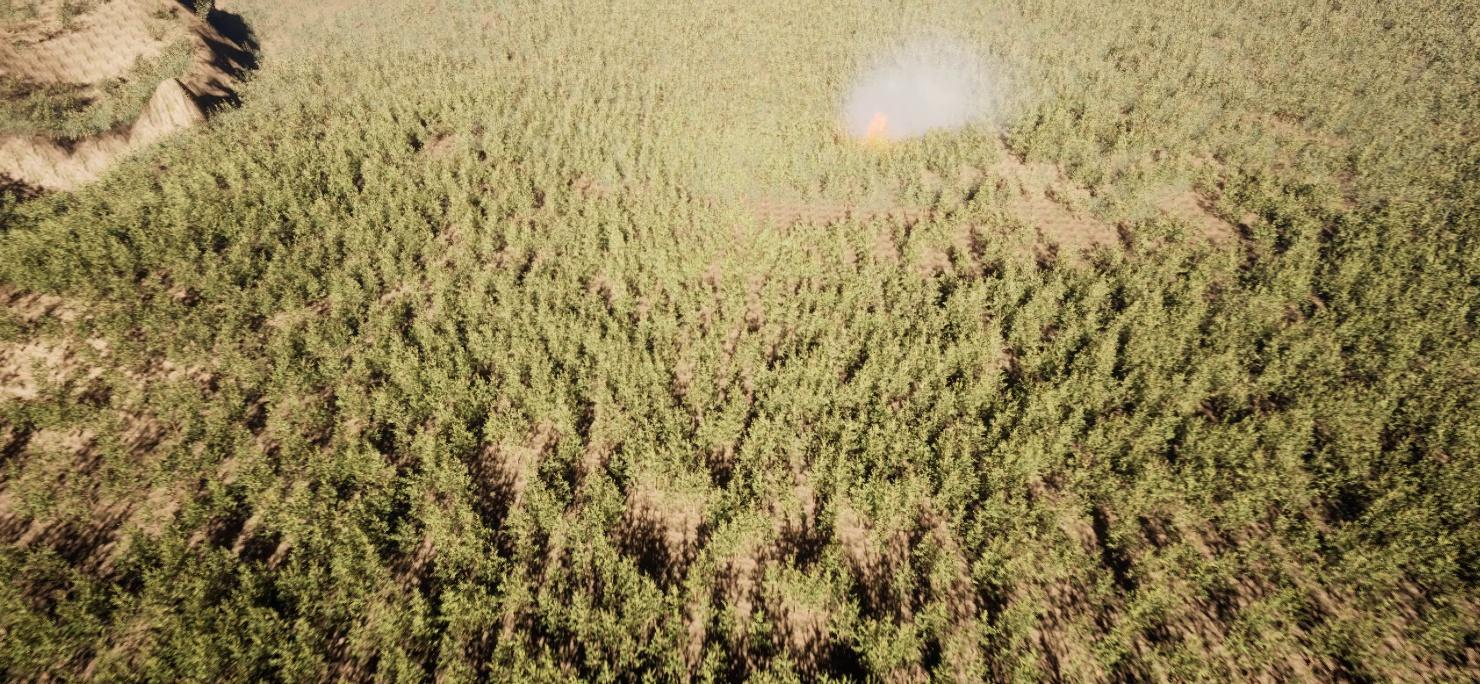fire: (862, 106, 892, 138)
smoke: (842, 20, 1010, 135)
